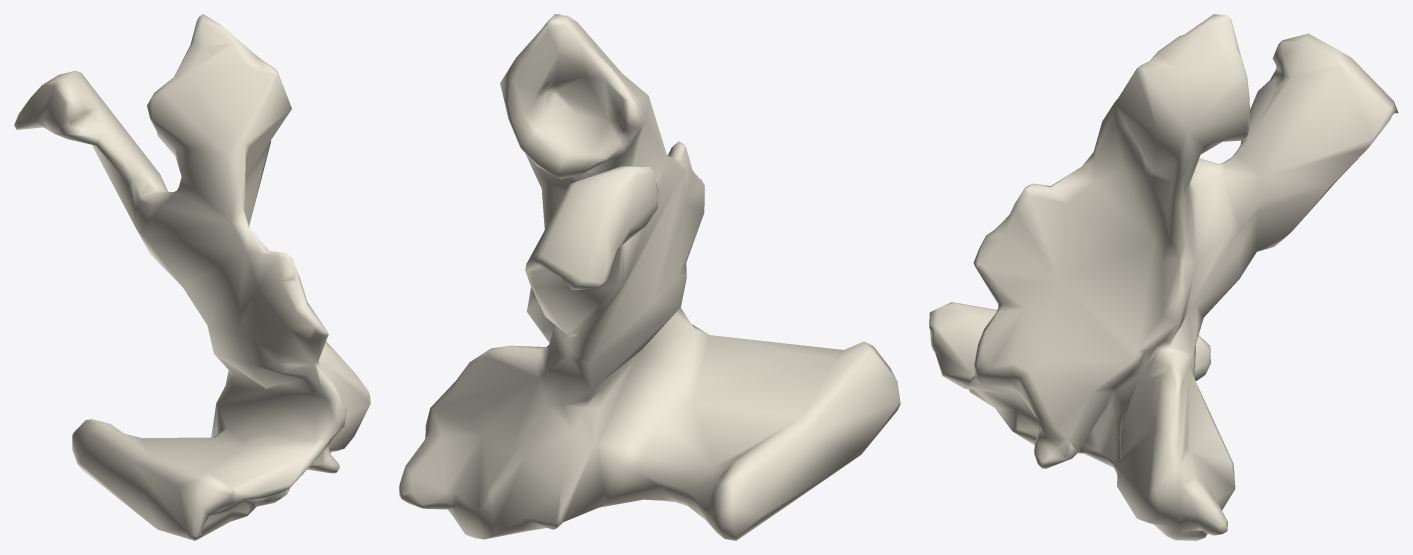
The picture shows the model from 3 angles, left to right: view 1: azimuth 30°, elevation 25°; view 2: azimuth 150°, elevation 25°; view 3: azimuth 270°, elevation 25°; orthographic projection. The views are drawn at different scales.
Parts seen in each view (by area): view 1: ZA_aa436d2f192498ef; view 2: ZA_aa436d2f192498ef; view 3: ZA_aa436d2f192498ef.
Boxes of the visible parts, left/top/right/bottom form: ZA_aa436d2f192498ef: left=14, top=14, right=370, bottom=540; ZA_aa436d2f192498ef: left=399, top=14, right=900, bottom=540; ZA_aa436d2f192498ef: left=929, top=14, right=1398, bottom=540.
Bounding box in the file's own units: 0.0263 × 0.0402 × 0.0352.
